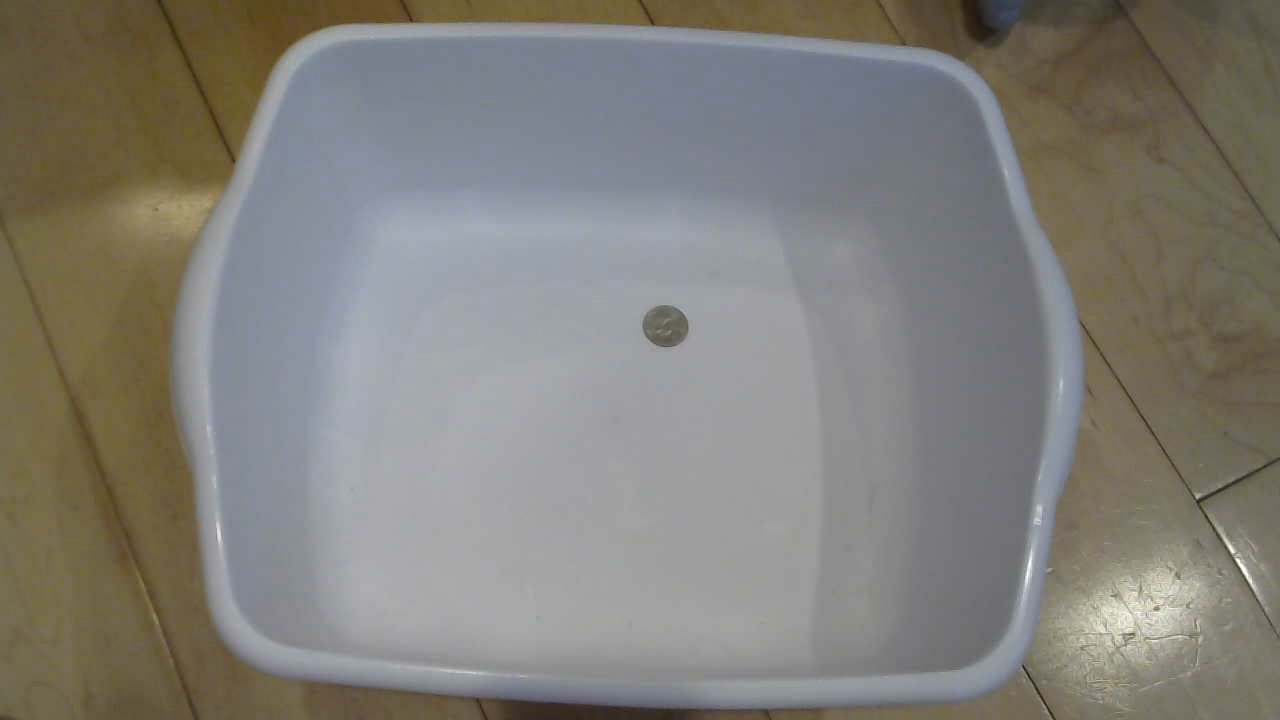coin: (637, 301, 701, 360)
